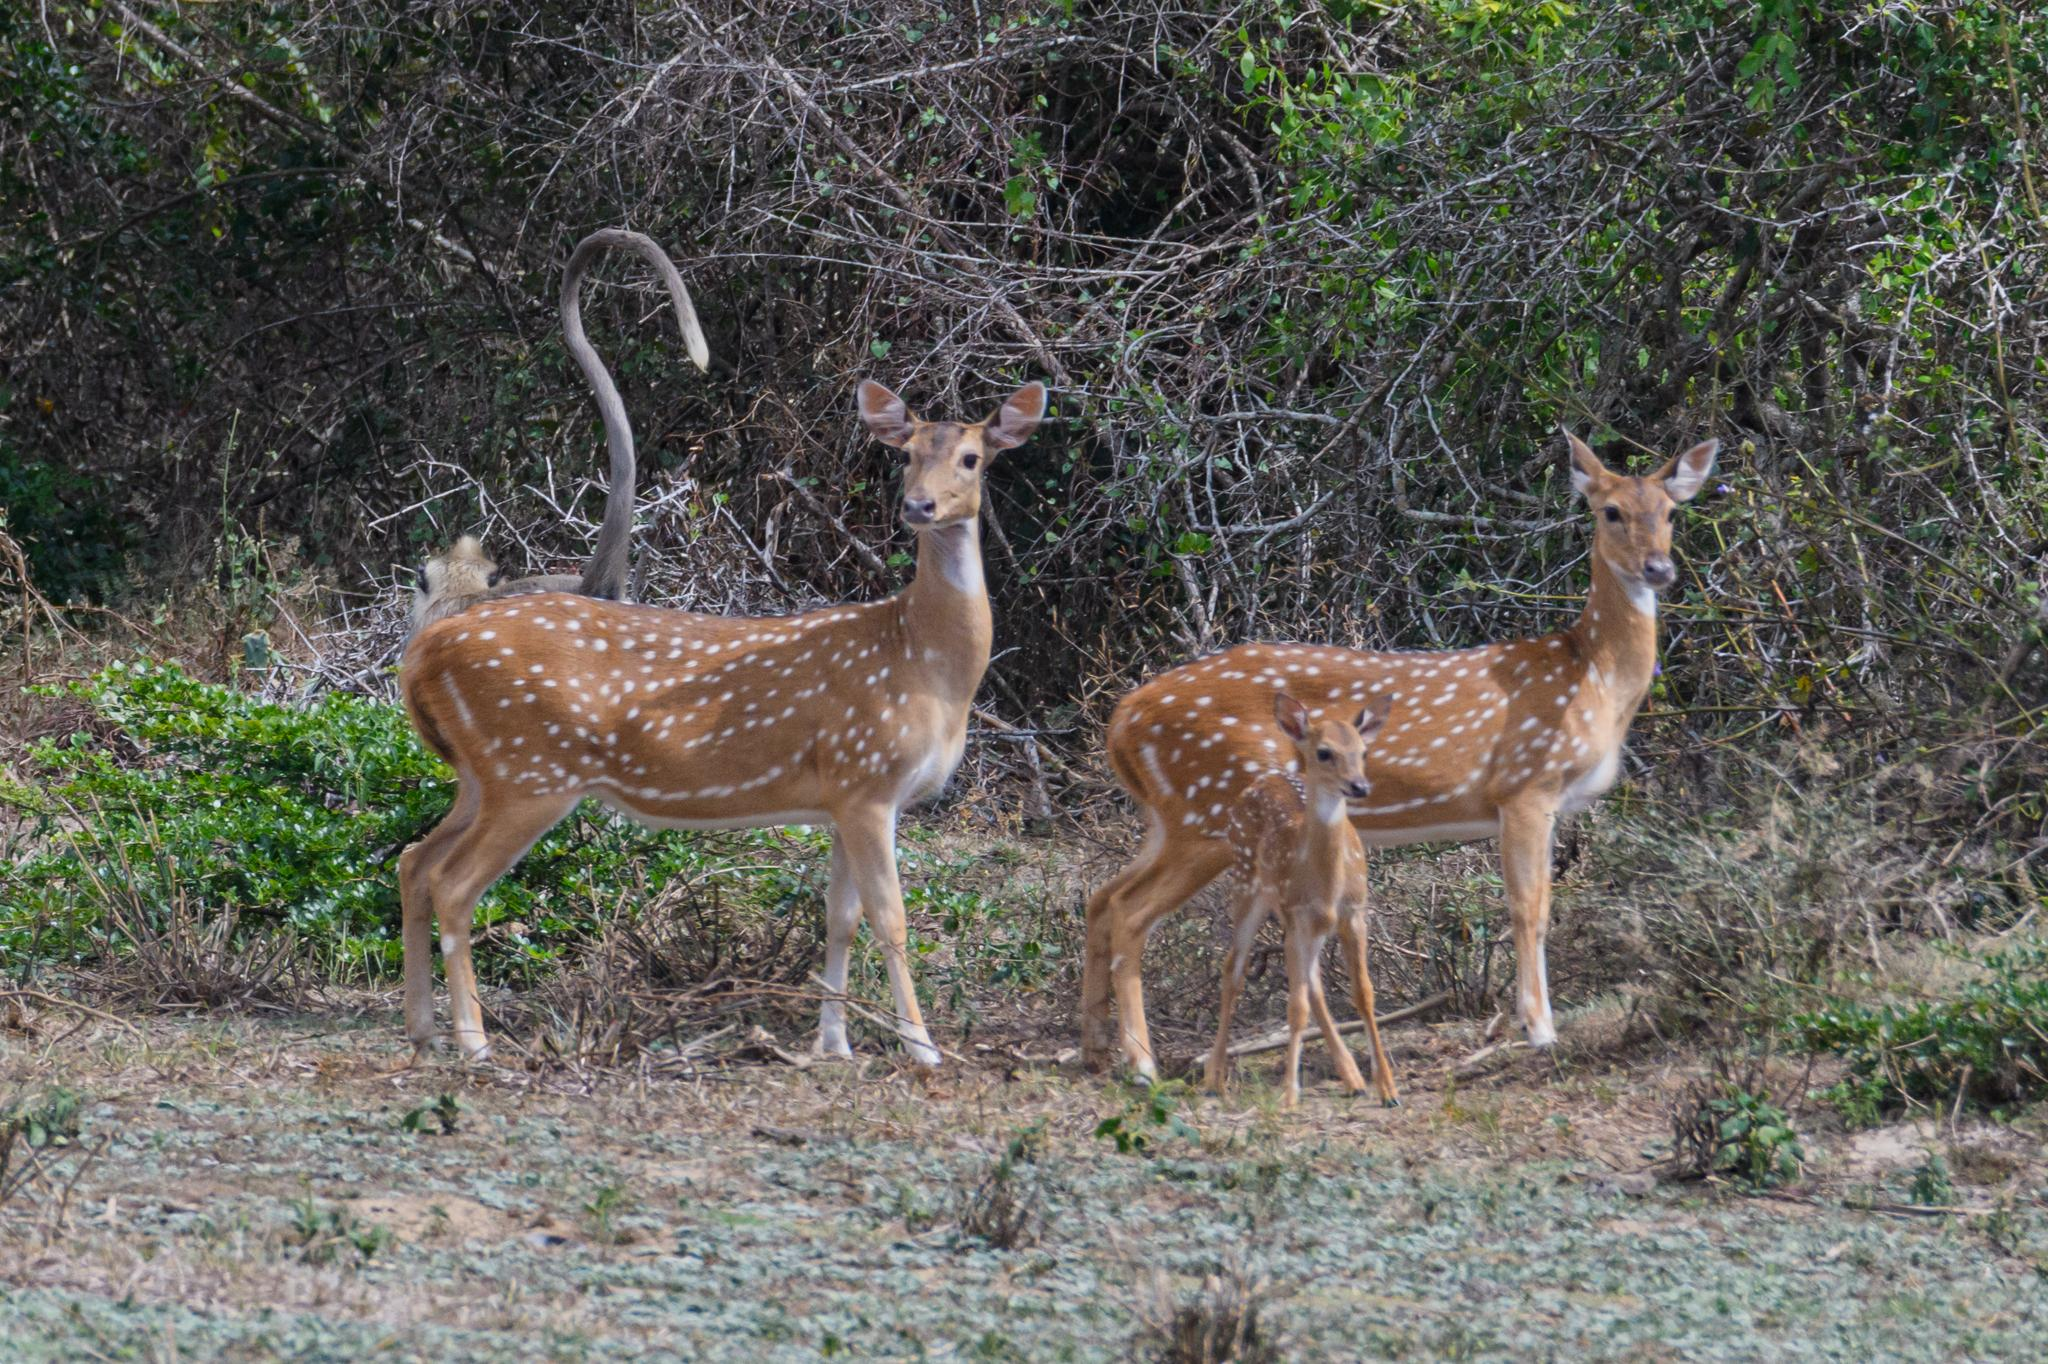Deer: (399, 381, 1045, 1064), (1082, 435, 1718, 1069), (1205, 693, 1395, 1105)
